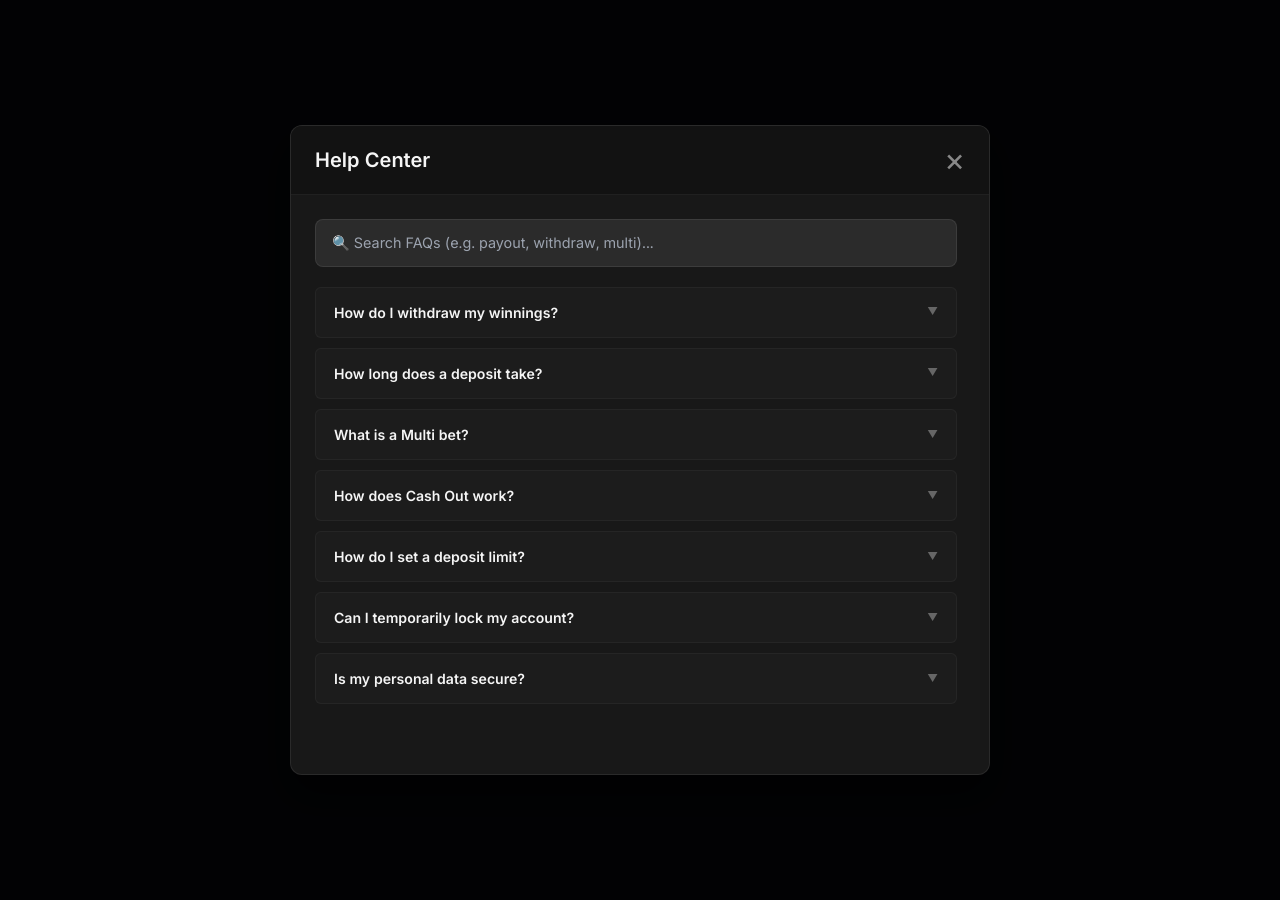
FooterModal › Help Center Tab › should expand FAQ item on click
Click the text "How do I withdraw my winnings?": (446, 312) [334, 302, 558, 323]
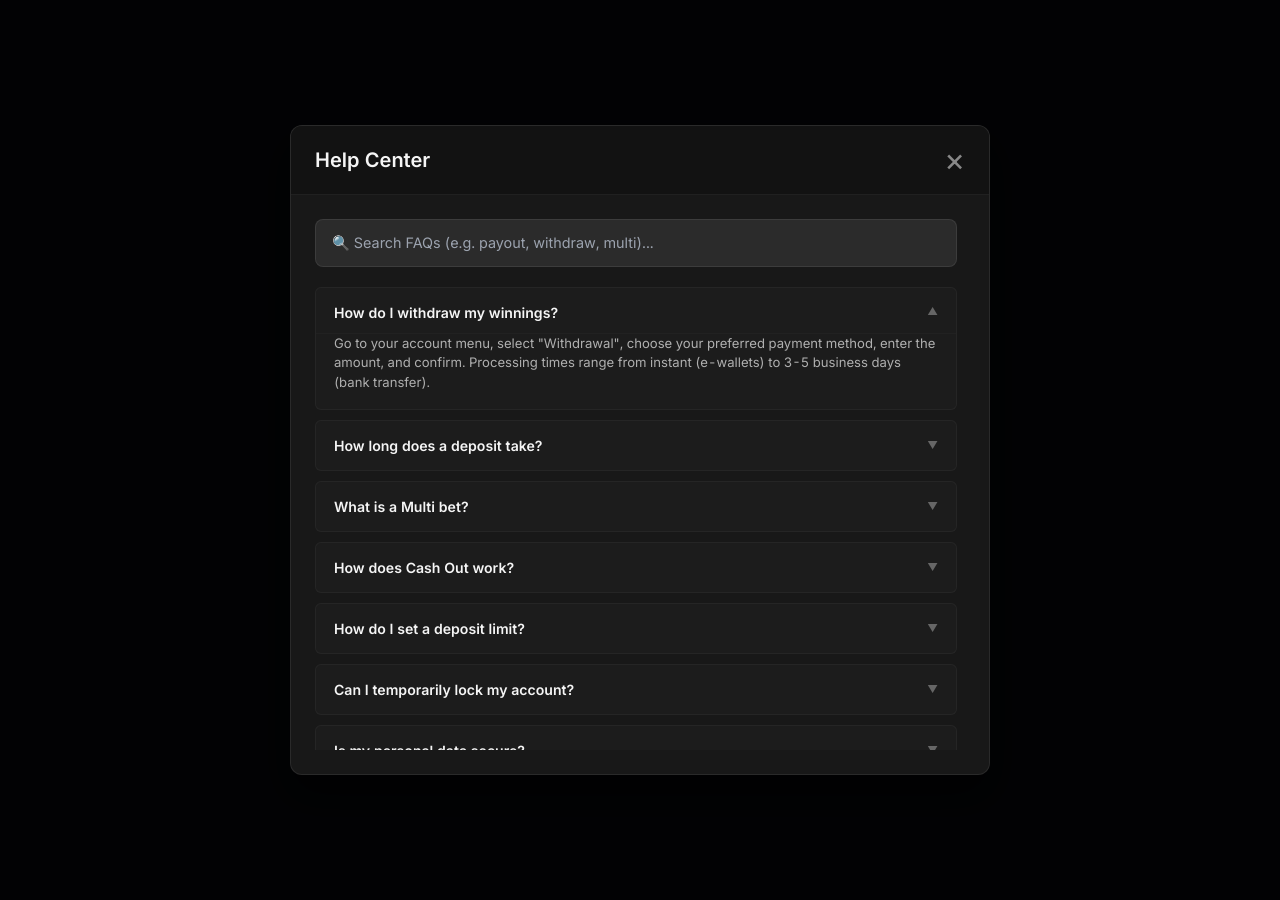
Result: the text "Go to your account menu" is shown at [334, 335, 935, 390]
